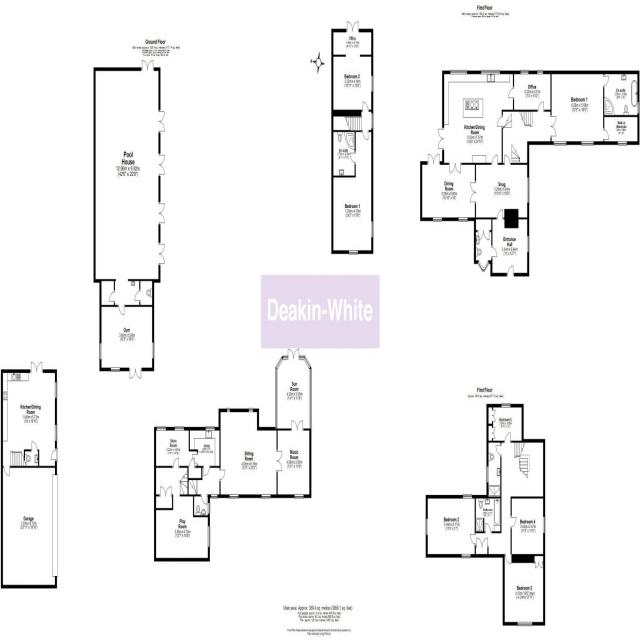DOOR: (50, 448, 58, 462), (510, 515, 517, 529), (3, 465, 11, 477), (495, 444, 502, 457), (504, 554, 512, 565), (504, 432, 512, 443), (200, 494, 208, 505), (203, 466, 211, 477), (361, 130, 369, 141), (506, 265, 514, 276), (503, 154, 511, 165), (537, 101, 545, 112), (172, 457, 180, 468), (219, 468, 225, 482), (350, 151, 356, 165), (508, 86, 514, 100), (497, 115, 503, 129), (491, 245, 497, 259), (603, 74, 609, 88), (192, 452, 198, 466), (496, 209, 504, 219), (470, 533, 476, 546), (603, 128, 609, 141), (362, 101, 369, 112), (491, 154, 498, 165), (485, 523, 492, 533)
DOUBLE DOOR: (276, 450, 283, 472), (550, 116, 557, 137), (449, 162, 461, 174), (470, 181, 476, 204), (291, 420, 303, 431), (288, 348, 299, 360), (31, 361, 42, 373), (438, 128, 444, 150)
ROOM: (438, 70, 515, 174), (1, 361, 58, 477), (218, 408, 283, 500), (154, 457, 210, 562), (331, 130, 374, 254), (550, 70, 609, 146), (420, 153, 476, 221), (426, 495, 476, 558), (503, 554, 545, 626), (276, 420, 311, 499), (331, 54, 373, 117), (510, 496, 545, 563), (486, 403, 524, 443)
WINDOW: (477, 260, 490, 272), (481, 70, 500, 75), (207, 525, 211, 548), (450, 70, 467, 75), (527, 177, 530, 204), (517, 621, 533, 626), (553, 141, 567, 146), (581, 141, 594, 146), (425, 518, 428, 536), (527, 235, 530, 253), (520, 69, 529, 75), (543, 516, 546, 533), (486, 466, 489, 483), (371, 221, 374, 238), (371, 112, 374, 129), (371, 75, 374, 92), (55, 382, 58, 399), (55, 424, 58, 441), (461, 554, 471, 559), (501, 403, 511, 408), (294, 494, 304, 499), (229, 494, 239, 499), (261, 494, 271, 499), (205, 426, 215, 431), (174, 426, 184, 431), (156, 426, 166, 431), (348, 250, 358, 255), (458, 217, 468, 222), (617, 141, 627, 146), (463, 494, 472, 499), (433, 217, 442, 222), (208, 502, 211, 515), (637, 102, 640, 114), (537, 69, 543, 75), (211, 494, 218, 499), (248, 407, 253, 412), (227, 408, 230, 412)
